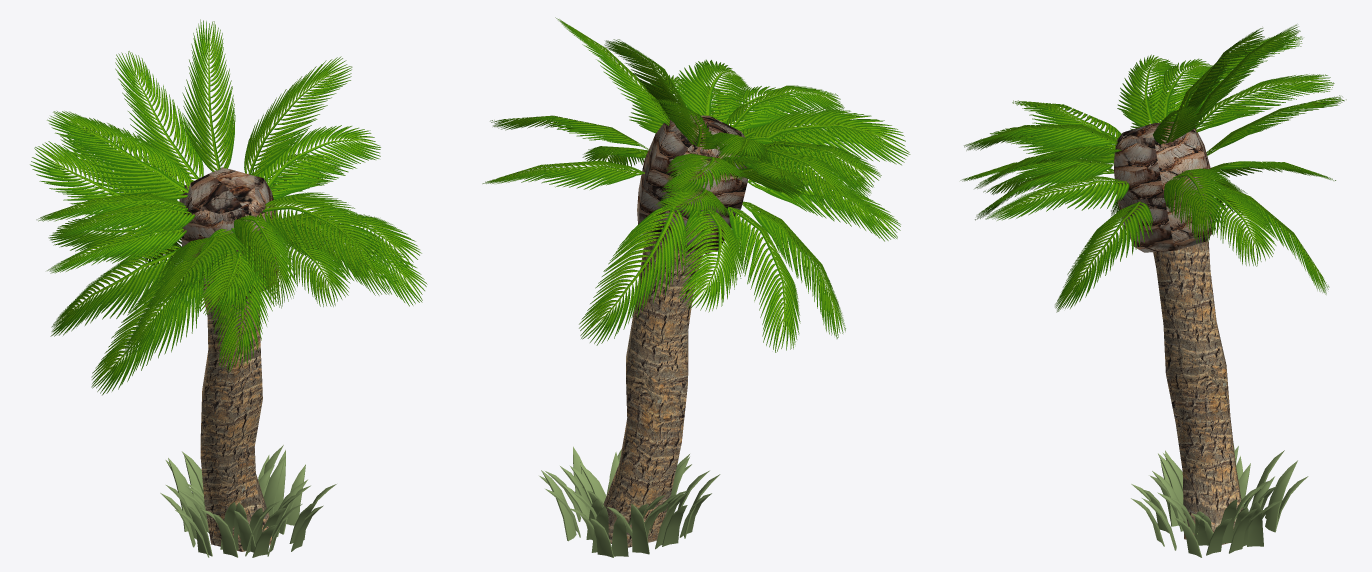
Rendered from Palm Tree.fbx.
The picture shows the model from 3 angles, left to right: view 1: azimuth 30°, elevation 25°; view 2: azimuth 150°, elevation 25°; view 3: azimuth 270°, elevation 25°; orthographic projection. The views are drawn at different scales.
Parts seen in each view (by area): view 1: Palm_Normal1; view 2: Palm_Normal1; view 3: Palm_Normal1.
Boxes of the visible parts, left/top/right/bottom form: Palm_Normal1: left=30, top=19, right=427, bottom=557; Palm_Normal1: left=482, top=17, right=910, bottom=557; Palm_Normal1: left=960, top=24, right=1346, bottom=557.
Size of the model in its own units: 934 by 1217 by 901.
4 materials, 3 textured.
